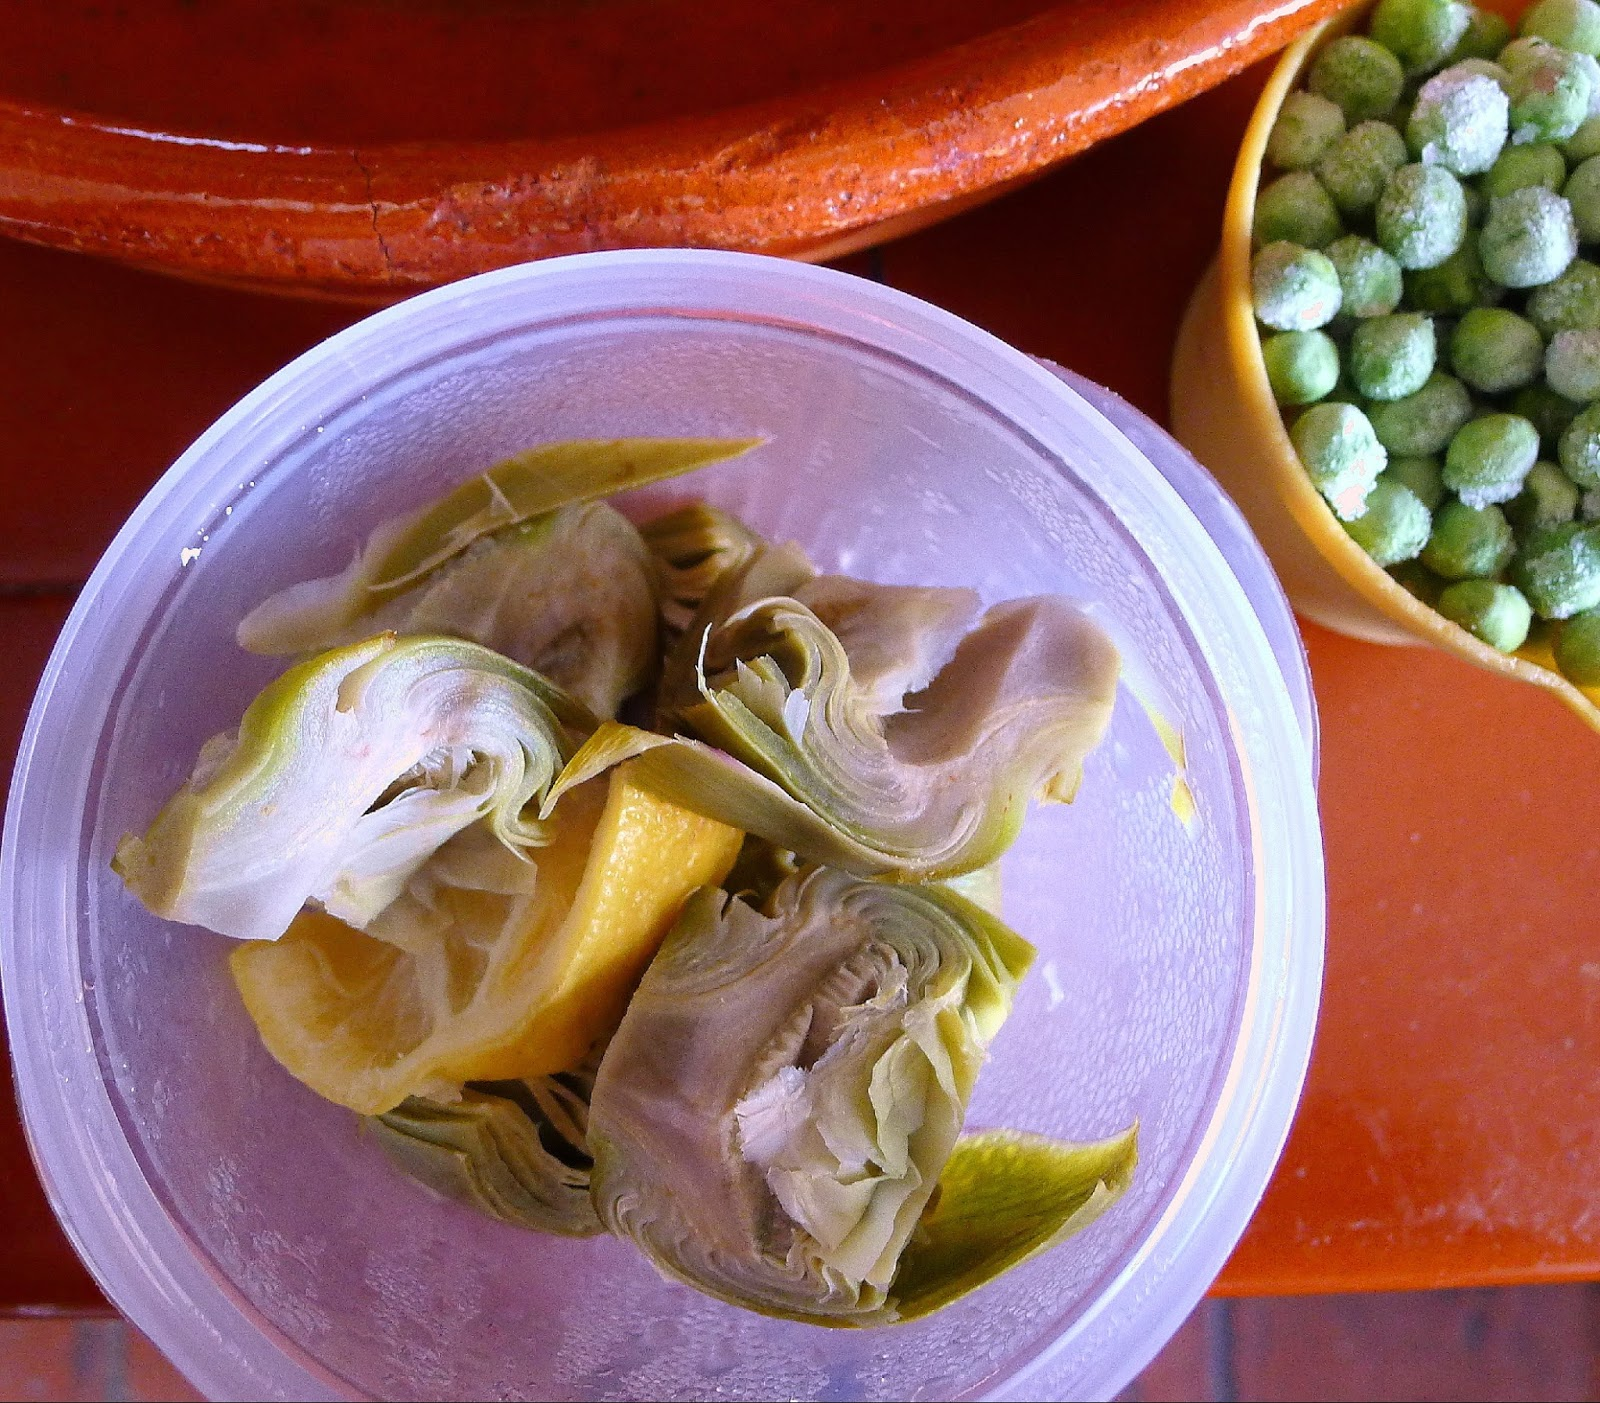boiled peas: (1252, 39, 1600, 622)
